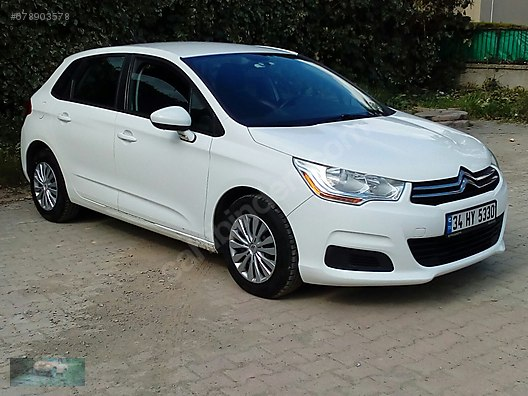citroen: (15, 36, 512, 303)
